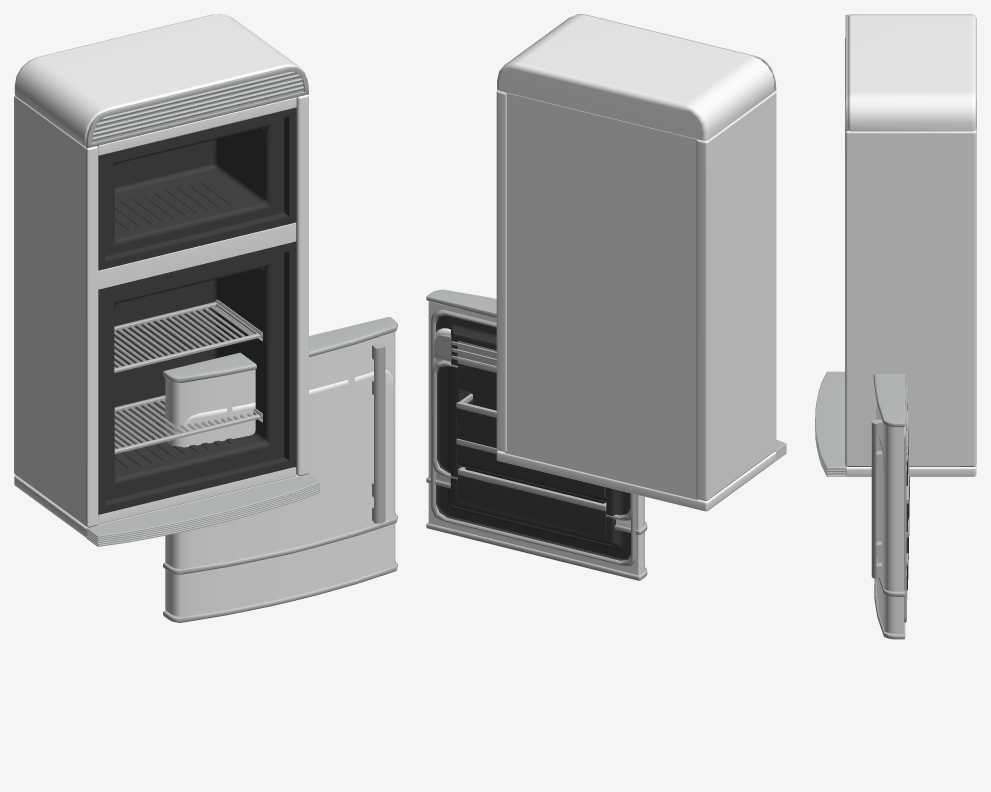
File: Fridge_26.obj
The picture shows the model from 3 angles, left to right: view 1: azimuth 30°, elevation 25°; view 2: azimuth 150°, elevation 25°; view 3: azimuth 270°, elevation 25°; orthographic projection. The views are drawn at different scales.
Visible parts, largest first — view 1: FridgeBodyMesh_0, Mesh_2, Mesh_1; view 2: FridgeBodyMesh_0, Mesh_2, Mesh_1; view 3: FridgeBodyMesh_0, Mesh_2, Mesh_1.
Part boxes in pixels (bbox=[...]): FridgeBodyMesh_0: bbox=[14, 14, 320, 546]; Mesh_2: bbox=[163, 317, 397, 622]; Mesh_1: bbox=[163, 370, 397, 574]; FridgeBodyMesh_0: bbox=[496, 14, 786, 511]; Mesh_2: bbox=[426, 289, 647, 580]; Mesh_1: bbox=[426, 328, 647, 534]; FridgeBodyMesh_0: bbox=[815, 14, 976, 476]; Mesh_2: bbox=[871, 374, 908, 639]; Mesh_1: bbox=[871, 408, 909, 596].
Bounding box in the file's own units: 1.46 × 3.15 × 0.6837.
